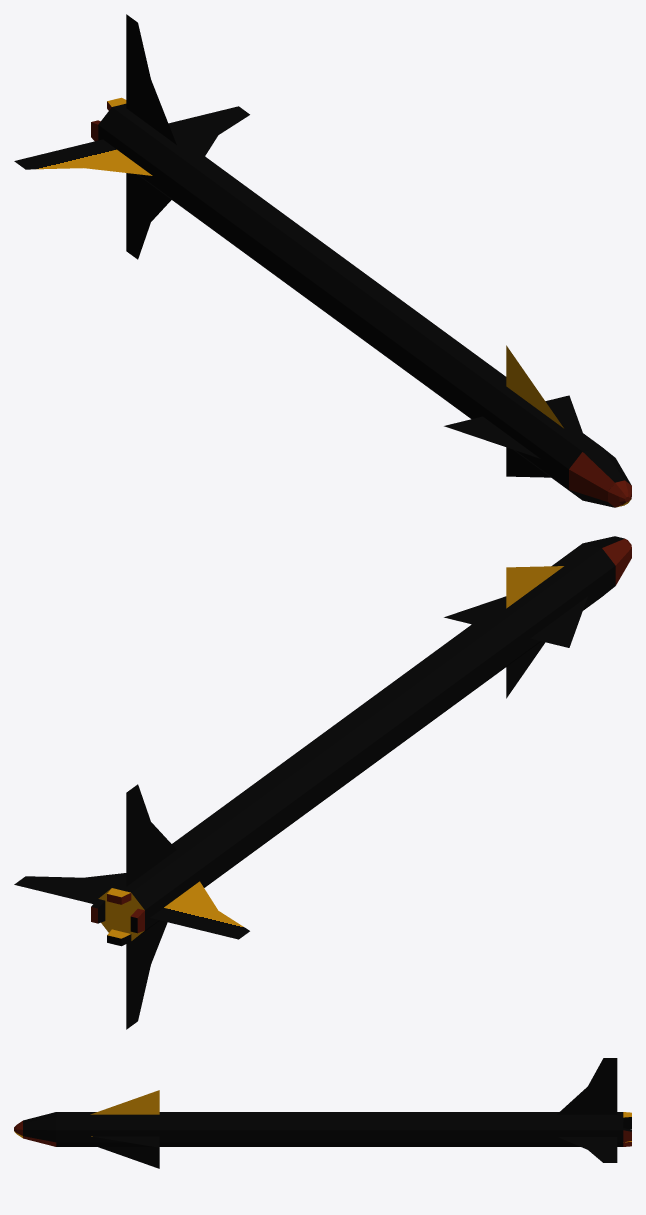
Rendered from aim9x.obj.
3 views of the same model, one above another, from view 1: azimuth 30°, elevation 25°; view 2: azimuth 150°, elevation 25°; view 3: azimuth 270°, elevation 25° (orthographic). The views are drawn at different scales.
Visible parts, largest first — view 1: 1, 15, 17, 2, 18, 16, 4, 6, 5; view 2: 1, 15, 17, 18, 16, 4, 6, 2, 5; view 3: 1, 15, 2, 4, 16, 5, 7.
Boxes of the visible parts, left/top/right/bottom form: 1: left=98, top=103, right=601, bottom=498; 15: left=126, top=14, right=176, bottom=144; 17: left=14, top=139, right=152, bottom=175; 2: left=569, top=447, right=631, bottom=507; 18: left=126, top=173, right=171, bottom=259; 16: left=168, top=106, right=249, bottom=155; 4: left=506, top=345, right=563, bottom=428; 6: left=444, top=416, right=540, bottom=458; 5: left=506, top=447, right=550, bottom=477; 1: left=98, top=543, right=615, bottom=941; 15: left=126, top=784, right=176, bottom=886; 17: left=150, top=881, right=249, bottom=939; 18: left=126, top=920, right=167, bottom=1029; 16: left=14, top=873, right=126, bottom=903; 4: left=506, top=566, right=563, bottom=608; 6: left=530, top=596, right=587, bottom=647; 2: left=583, top=536, right=631, bottom=585; 5: left=506, top=641, right=545, bottom=698; 1: left=56, top=1112, right=623, bottom=1146; 15: left=557, top=1058, right=617, bottom=1114; 2: left=23, top=1112, right=56, bottom=1146; 4: left=90, top=1090, right=159, bottom=1114; 16: left=558, top=1137, right=617, bottom=1162; 5: left=98, top=1147, right=159, bottom=1168; 7: left=91, top=1136, right=159, bottom=1147.
Size of the model in its own units: 0.5859 by 0.5906 by 2.32.
